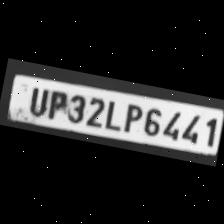1: (197, 113, 222, 148)
2: (82, 92, 108, 128)
3: (62, 88, 89, 124)
4: (176, 109, 203, 143), (159, 106, 185, 140)
6: (138, 103, 165, 136)
L: (102, 96, 126, 132)
P: (43, 85, 70, 120), (118, 99, 144, 134)
U: (22, 80, 52, 116)
